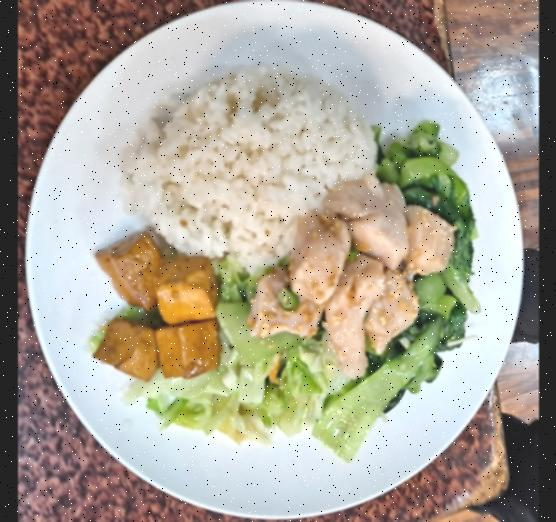plate: (19, 0, 530, 522)
scallion chicken: (252, 173, 456, 368)
side dish: (340, 123, 485, 444), (146, 262, 330, 454), (90, 230, 228, 384)
white rice: (113, 59, 376, 279)
